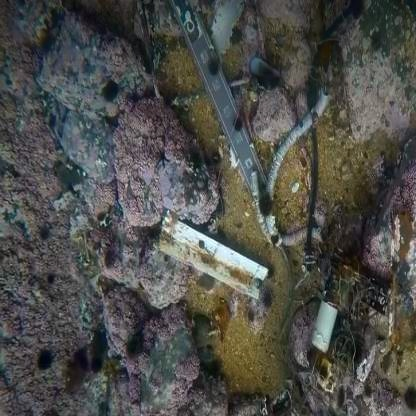electronics: (174, 4, 296, 272), (290, 244, 404, 408), (156, 207, 271, 313)
